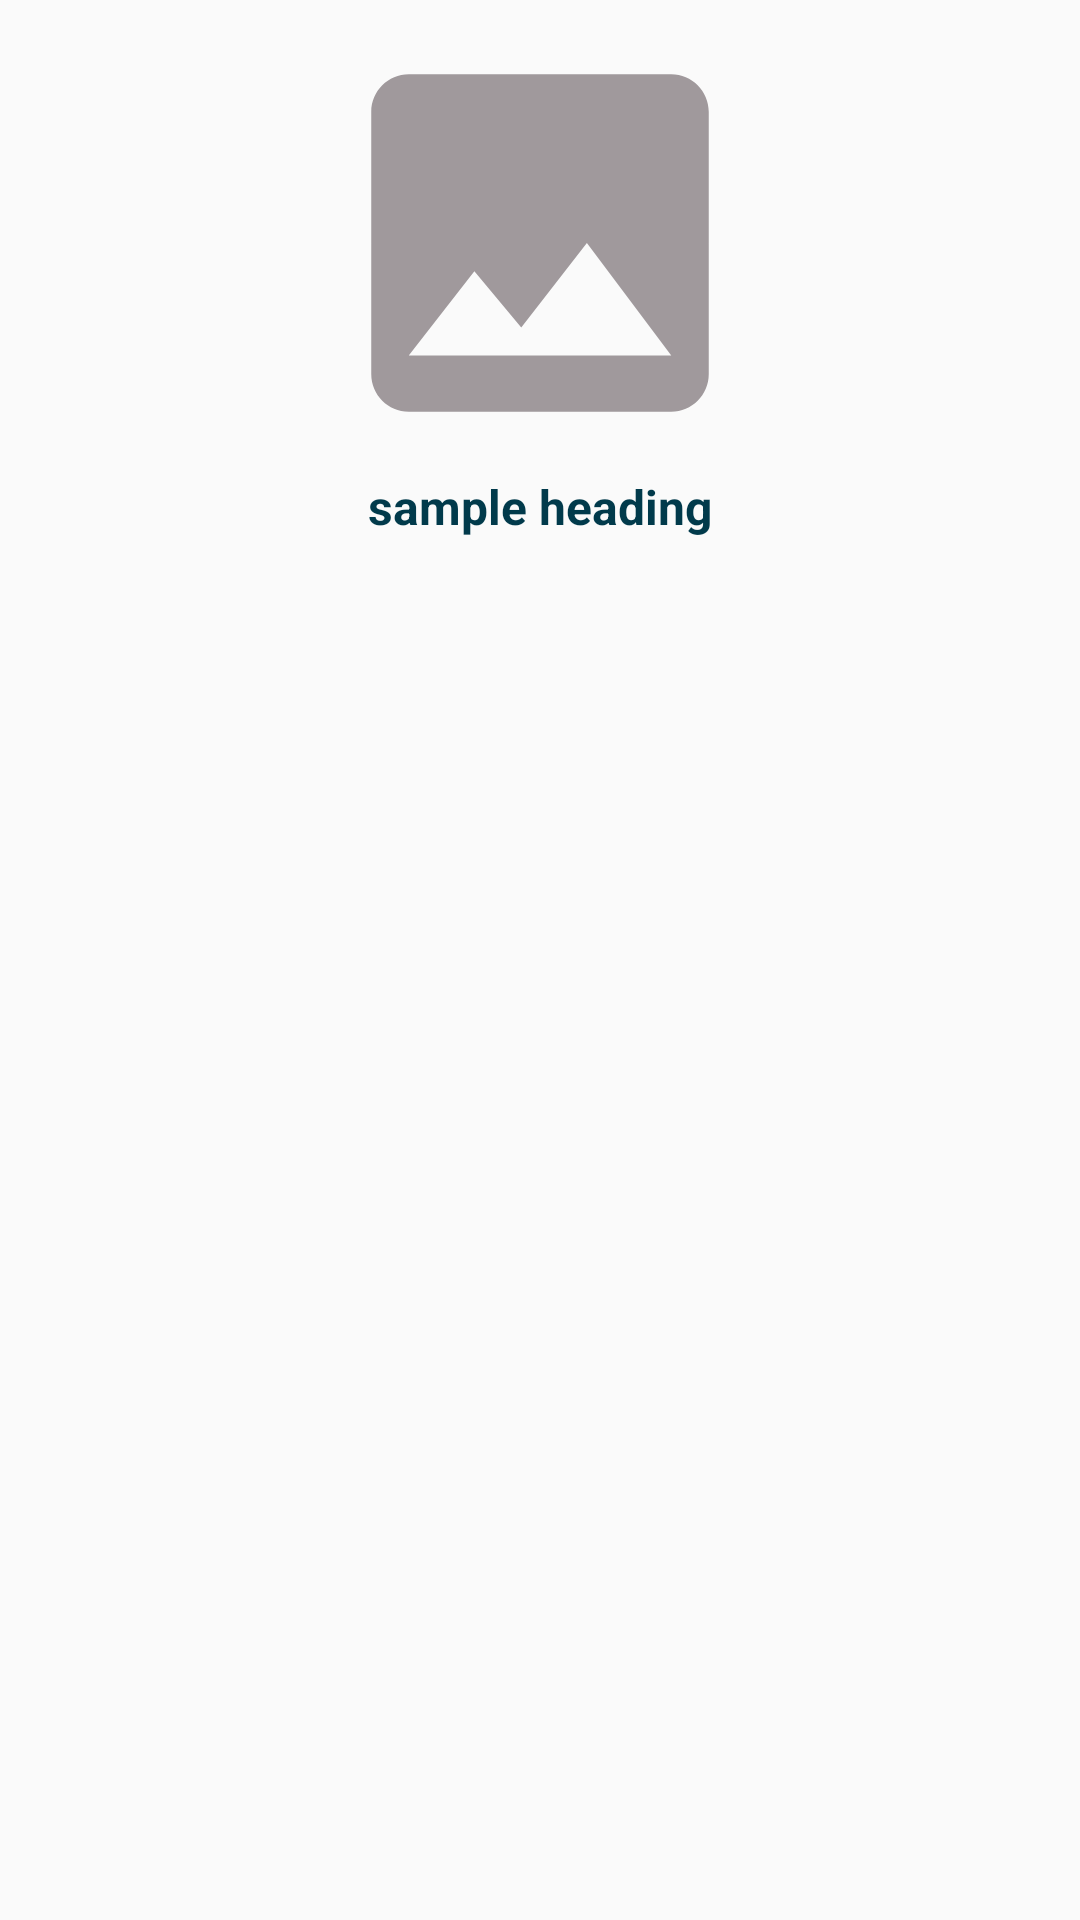

Where to tap for icons on this 1080 × 1920 app screen, as [x,y]:
photo: [540,243]
